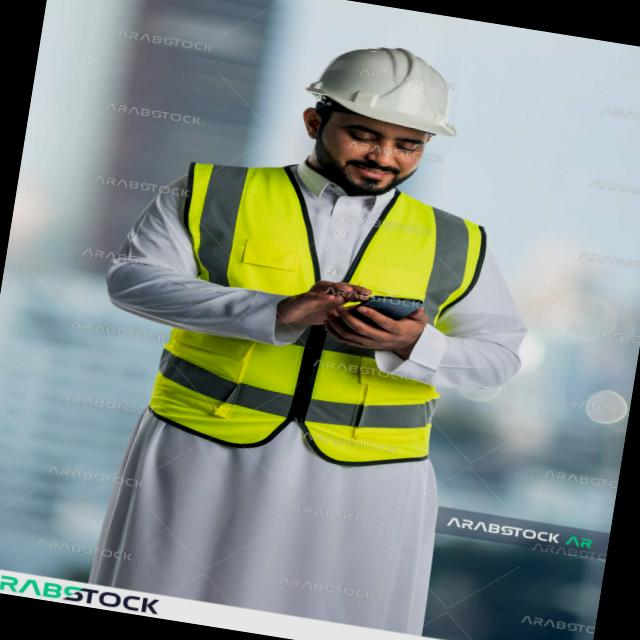helmet: (299, 34, 476, 145)
no-goggles: (306, 107, 446, 169)
vest: (146, 152, 499, 488)
